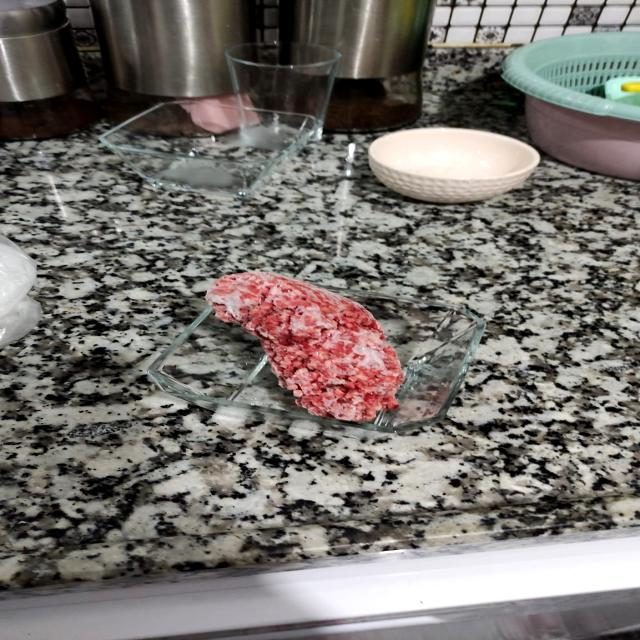ground meat: (183, 261, 437, 423)
